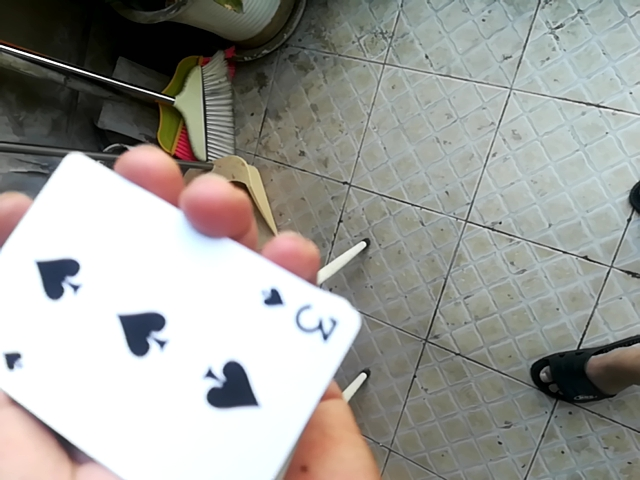ht 3: (0, 151, 360, 479)
